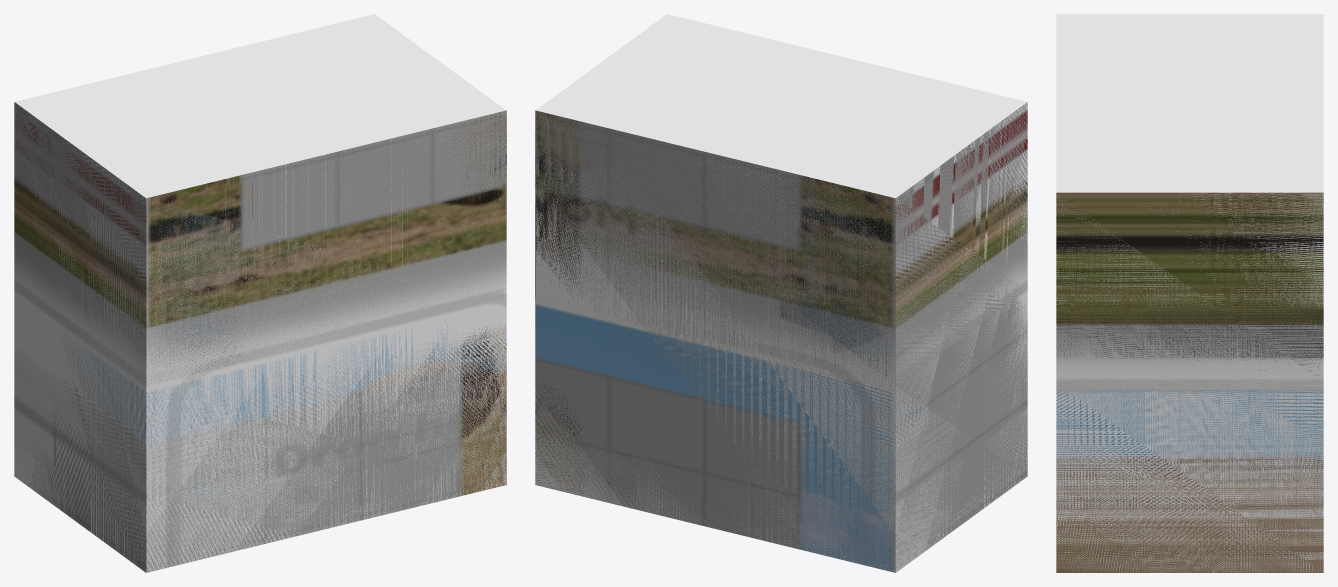
The model's file is puzzle5.fbx.
3 renders of one model, left to right at view 1: azimuth 30°, elevation 25°; view 2: azimuth 150°, elevation 25°; view 3: azimuth 270°, elevation 25°, orthographic.
Visible parts, largest first — view 1: Cube.003, Cube.007, Cube.001, Cube.005, Cube.004, Cube.006; view 2: Cube.006, Cube.003, Cube.005, Cube.007, Cube.001, Cube.004; view 3: Cube.007, Cube.001, Cube.006, Cube.005.
Part boxes in pixels (x1,y1,x2,y2): Cube.003: (146,110,505,572); Cube.007: (14,14,506,568); Cube.001: (14,102,506,566); Cube.005: (19,110,506,572); Cube.004: (150,114,505,467); Cube.006: (136,100,505,374); Cube.006: (536,14,1026,572); Cube.003: (536,113,895,562); Cube.005: (535,103,1027,570); Cube.007: (535,14,1027,572); Cube.001: (535,104,1027,572); Cube.004: (536,111,895,379); Cube.007: (1056,14,1323,572); Cube.001: (1056,192,1323,572); Cube.006: (1056,14,1189,192); Cube.005: (1056,192,1320,572).
Bounding box in the file's own units: 316 × 314 × 200.
